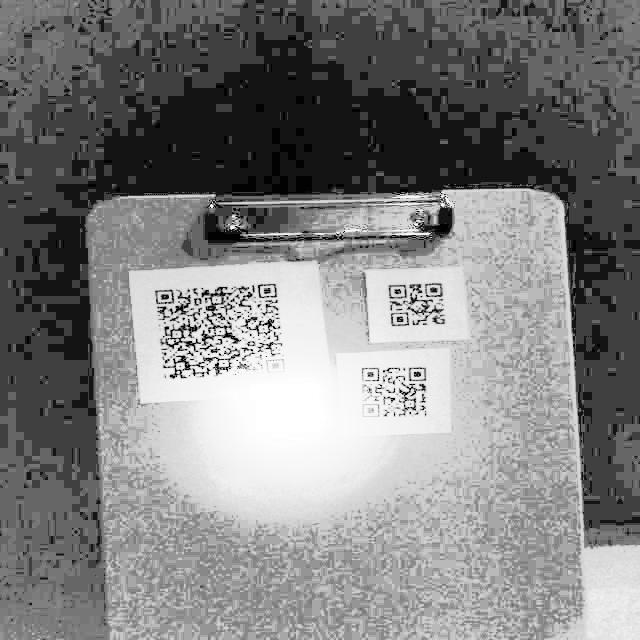qr_code: (143, 272, 293, 386), (348, 356, 438, 425), (376, 274, 465, 336)
